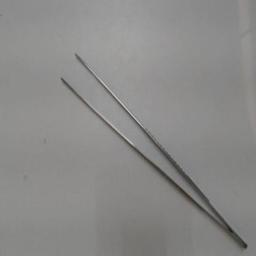DeBakey Dissector: (54, 32, 250, 254)
